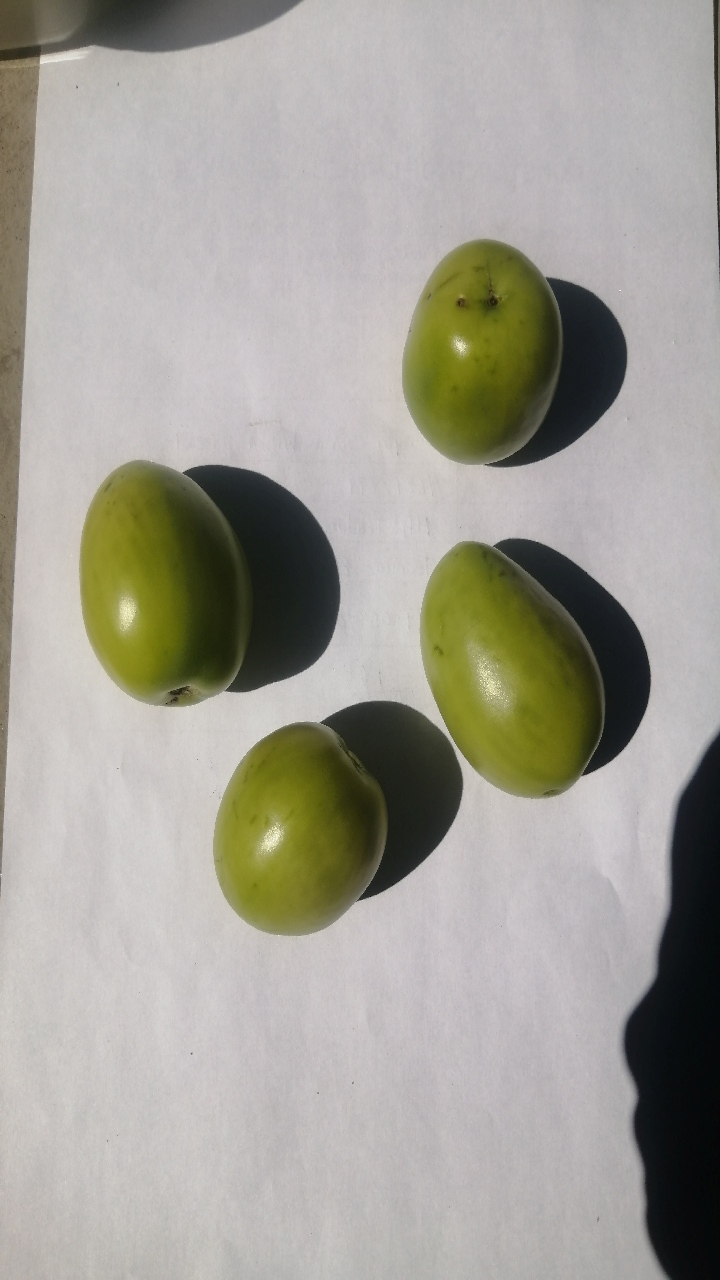tomateVerde: (397, 520, 640, 812), (55, 437, 260, 725), (381, 212, 584, 488), (189, 703, 400, 939)
